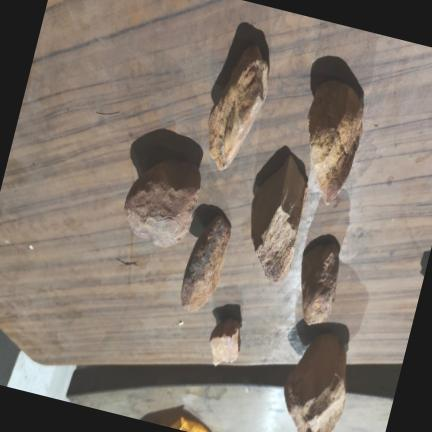Rocks: (209, 45, 269, 169), (251, 155, 307, 283), (309, 79, 363, 203), (125, 160, 201, 246), (285, 333, 346, 431), (181, 215, 231, 311), (302, 242, 339, 324), (210, 318, 241, 364)
